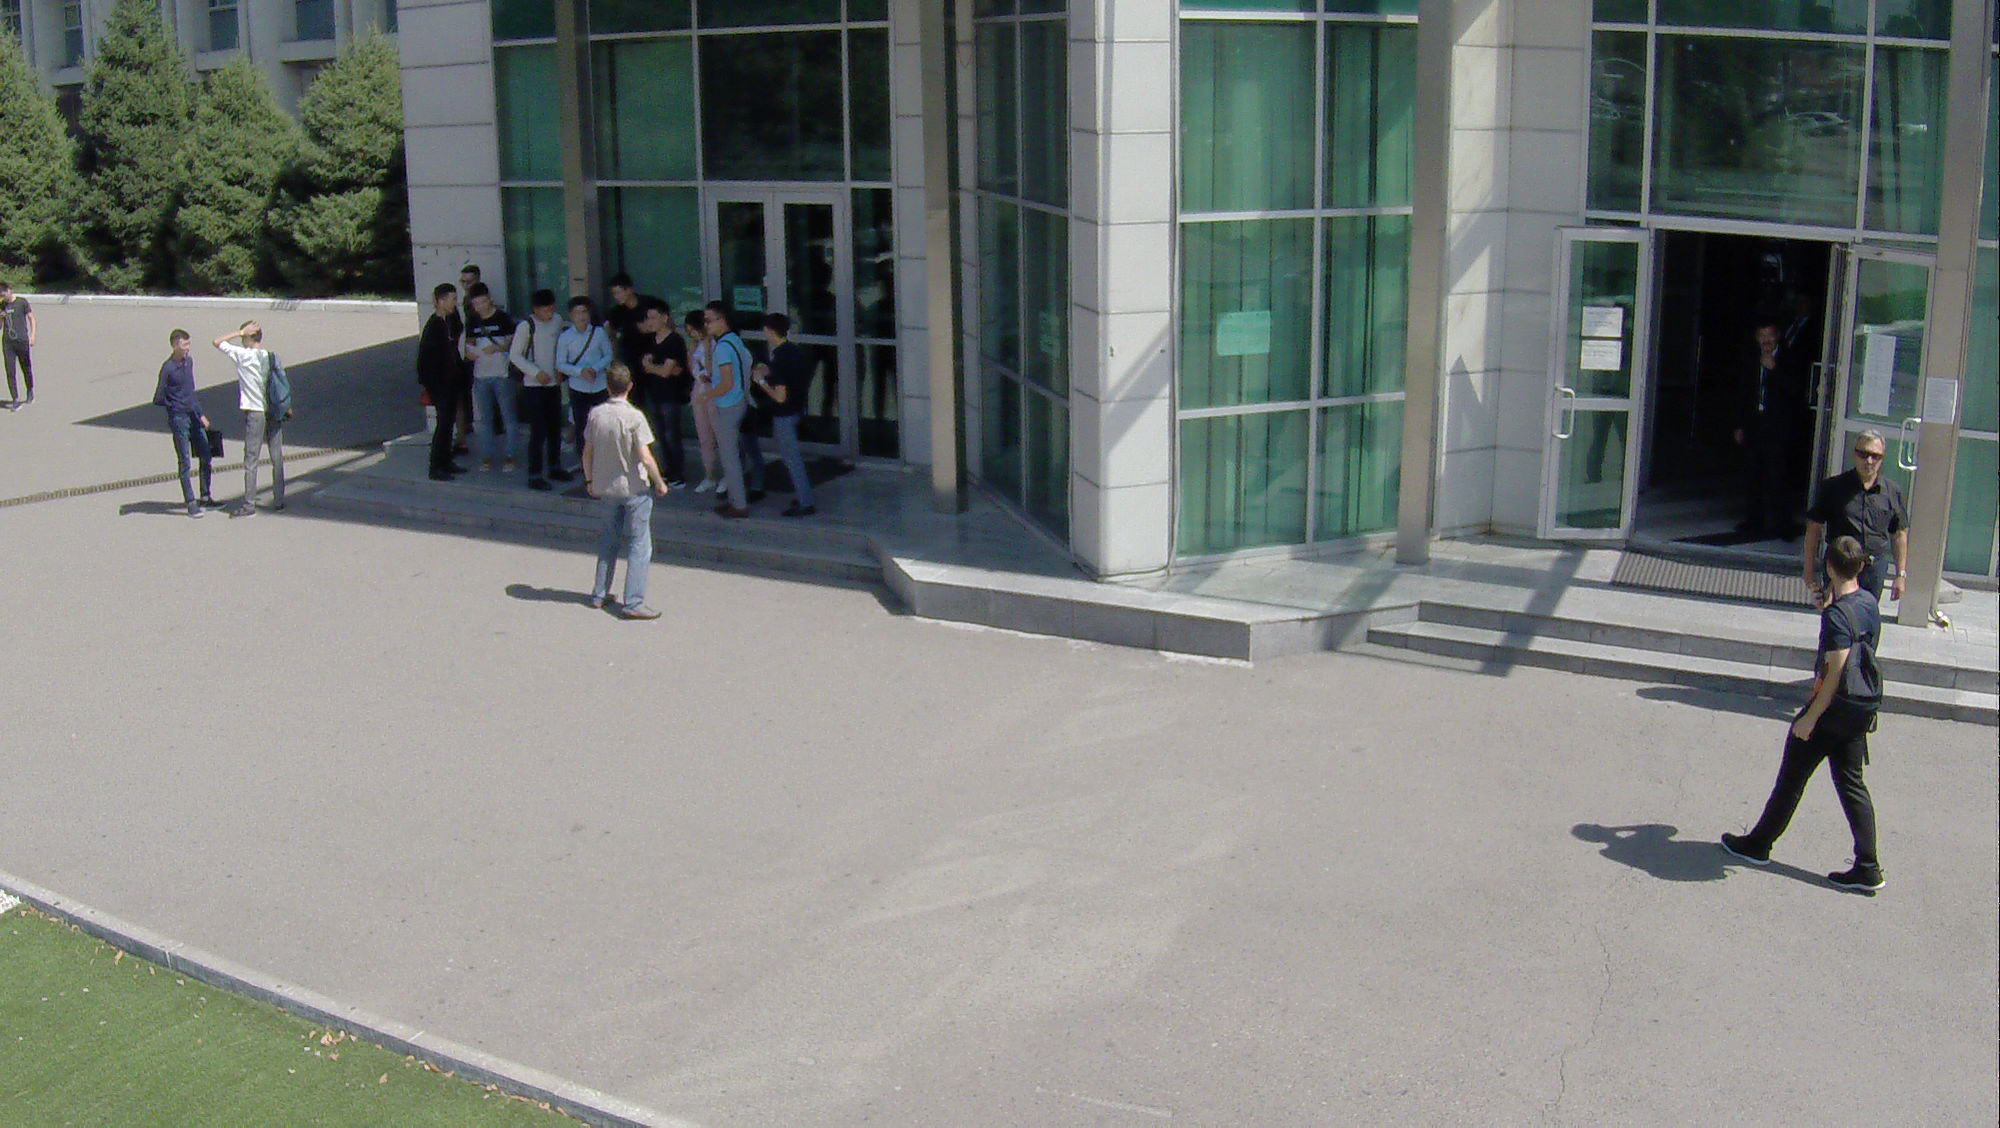person: (1718, 526, 1901, 901), (574, 360, 672, 635), (212, 312, 309, 524), (1730, 305, 1810, 555), (143, 325, 234, 531), (1812, 418, 1912, 599), (757, 310, 828, 526), (453, 287, 529, 478), (697, 300, 756, 519), (418, 275, 469, 496), (518, 294, 576, 485), (676, 313, 732, 494), (638, 306, 685, 407), (1, 276, 37, 400), (556, 293, 604, 379), (607, 274, 640, 341)
